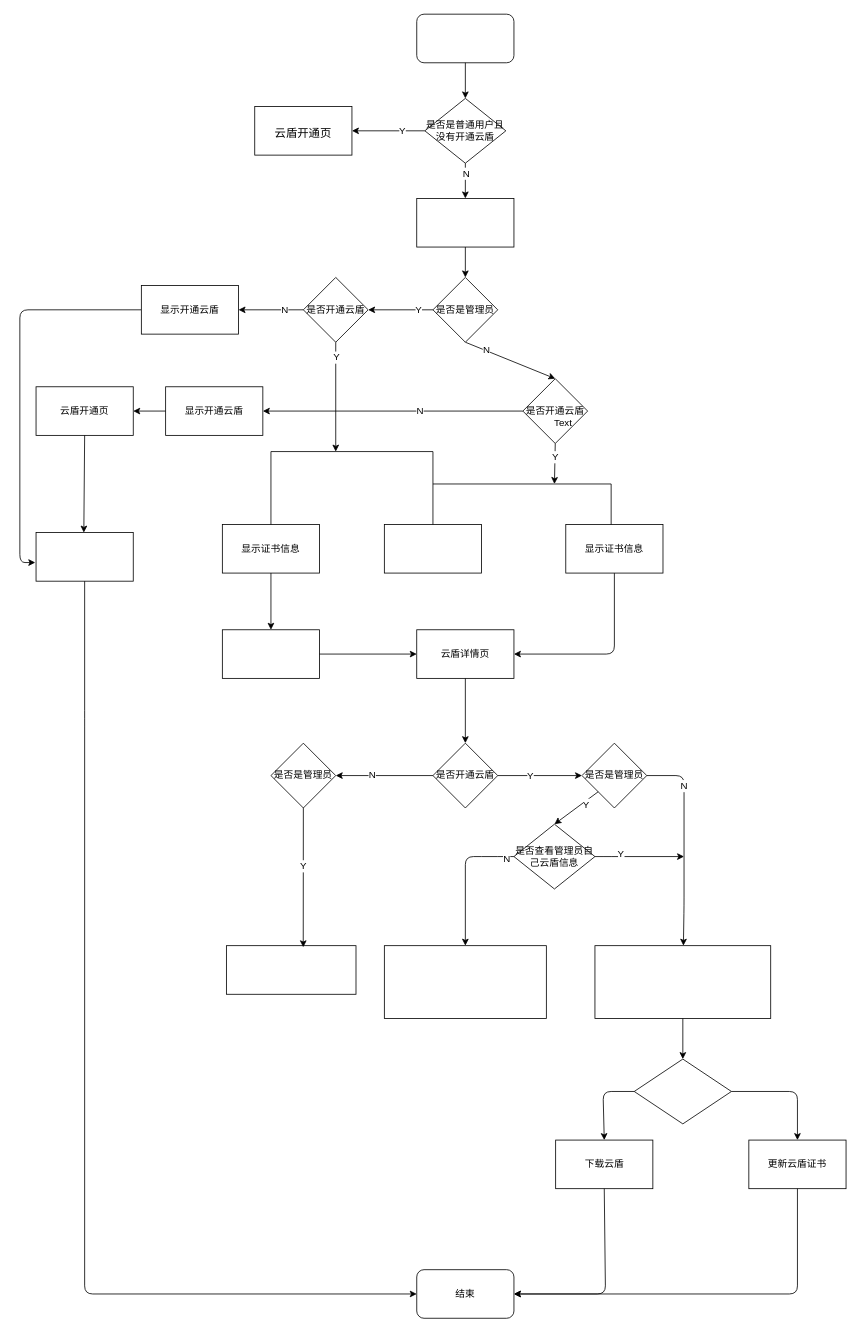
The diagram is 860 pixels wide and 1332 high, and some of its shapes have lost their labels. The centre of each missing label's shape, as x and y in pixels:
"certstt是否为1" belongs at (x=682, y=1091).
"云盾管理页" belongs at (x=465, y=222).
"开始" belongs at (x=465, y=38).
"所有用户的云盾信息列表页" belongs at (x=271, y=653).
"显示 修改云盾支付密码" belongs at (x=433, y=548).
"显示 用户姓名、 用户编号、 证书状态" belongs at (x=291, y=969).
"显示 用户姓名、 用户编号、 证书状态 查看 证书序号、 生效日期、 证书到期" belongs at (x=465, y=982).
"显示 用户姓名、 用户编号、 证书状态 查看 证书序号、 生效日期、 证书到期 显示 更新/下载按钮" belongs at (x=682, y=982).
"结果页" belongs at (x=84, y=556).
